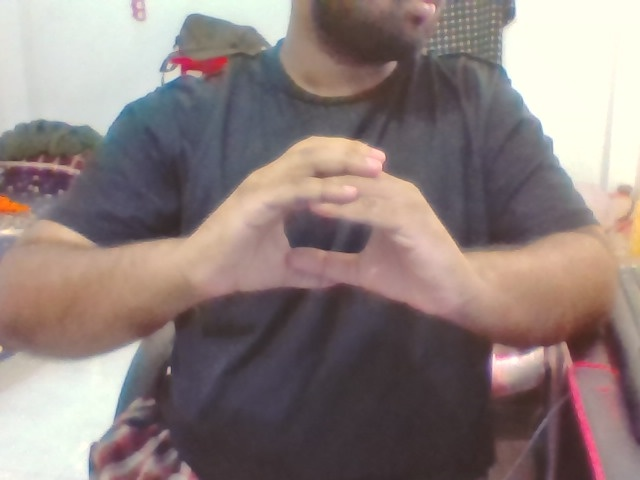O: (215, 127, 447, 329)
